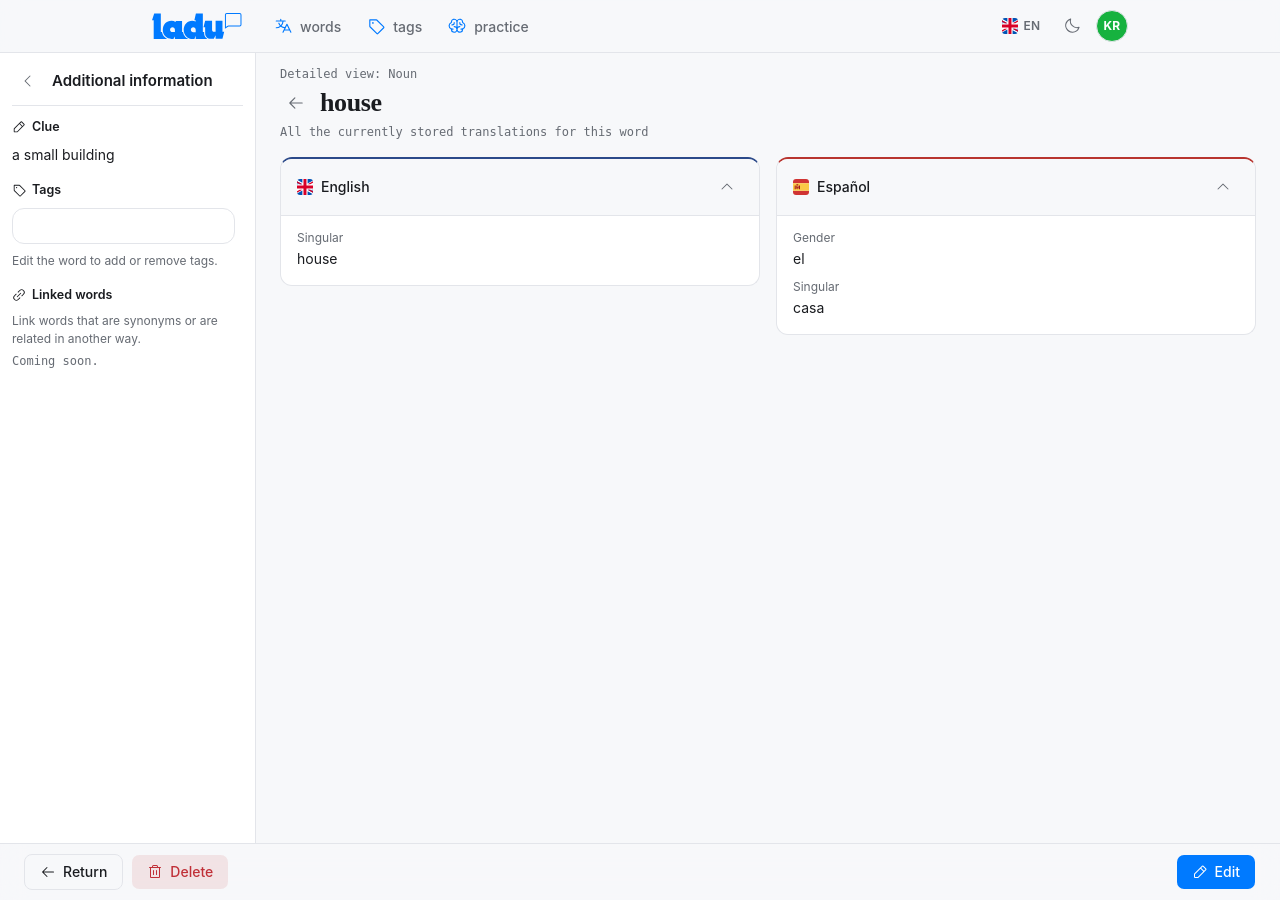
Test: WordPage — edit › Cancel discards the in-progress edit and returns to the unchanged view
This screenshot has width=1280, height=900.
Click the button "Edit" at (1216,872), box [1176,854,1256,890]
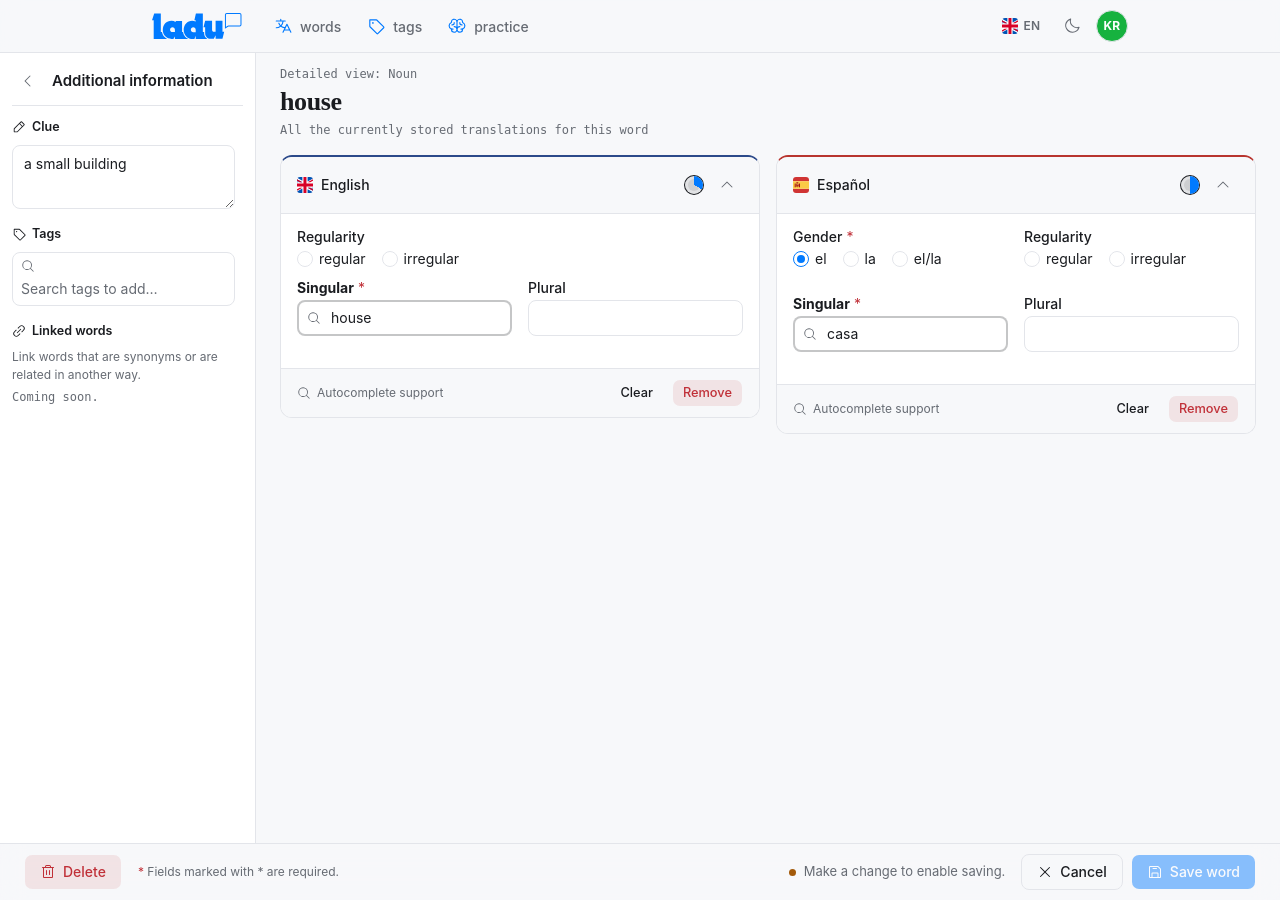
Replace the text in the 1st dropdown labelled "Singular" with "Cottage" at (404,318), box [297,300,512,336]
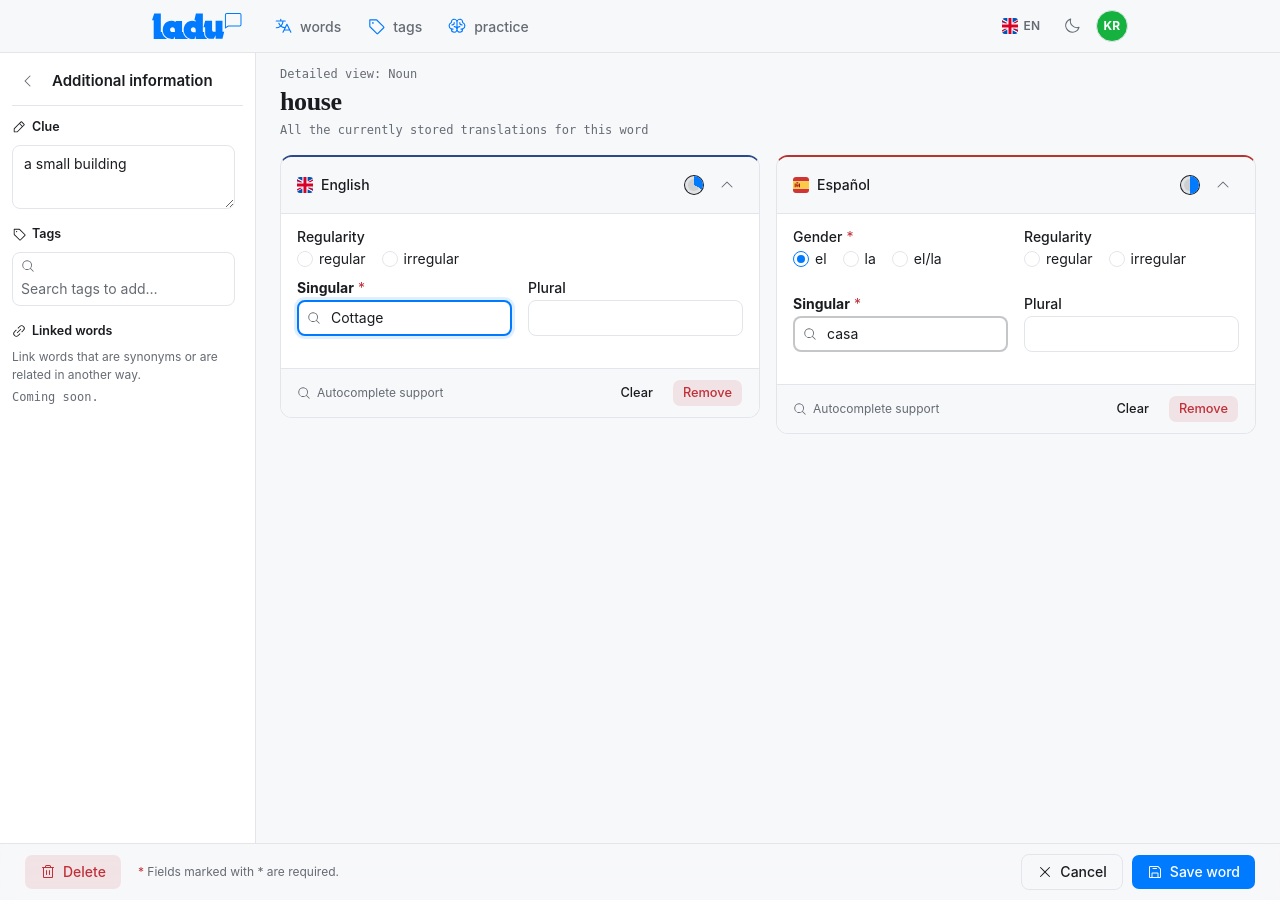
Click the button "Cancel" at (1072,872), box [1021,854,1123,890]
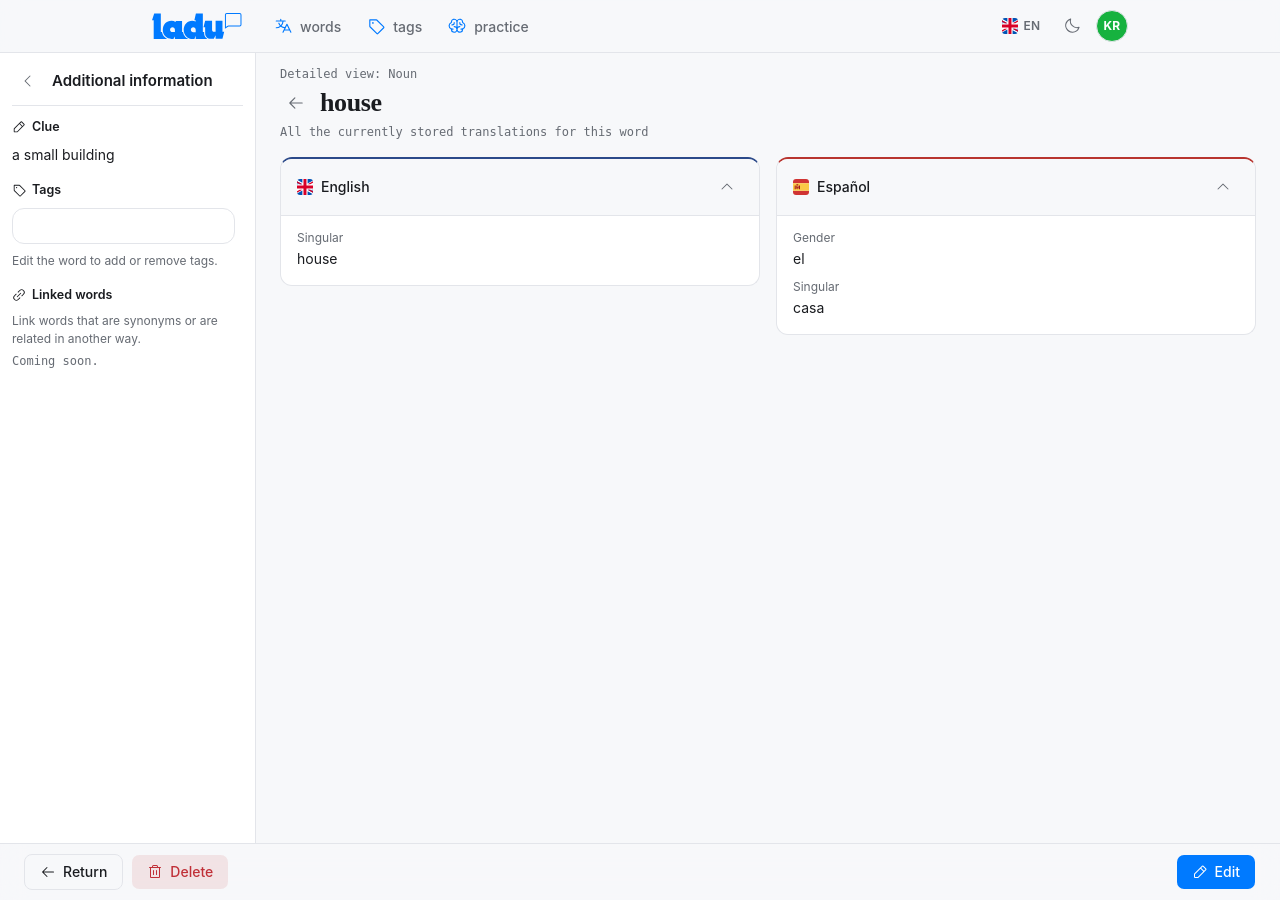
expect the heading "house" is shown: met, box [320,88,382,118]
expect no dropdowns labelled "Singular" are shown: met
